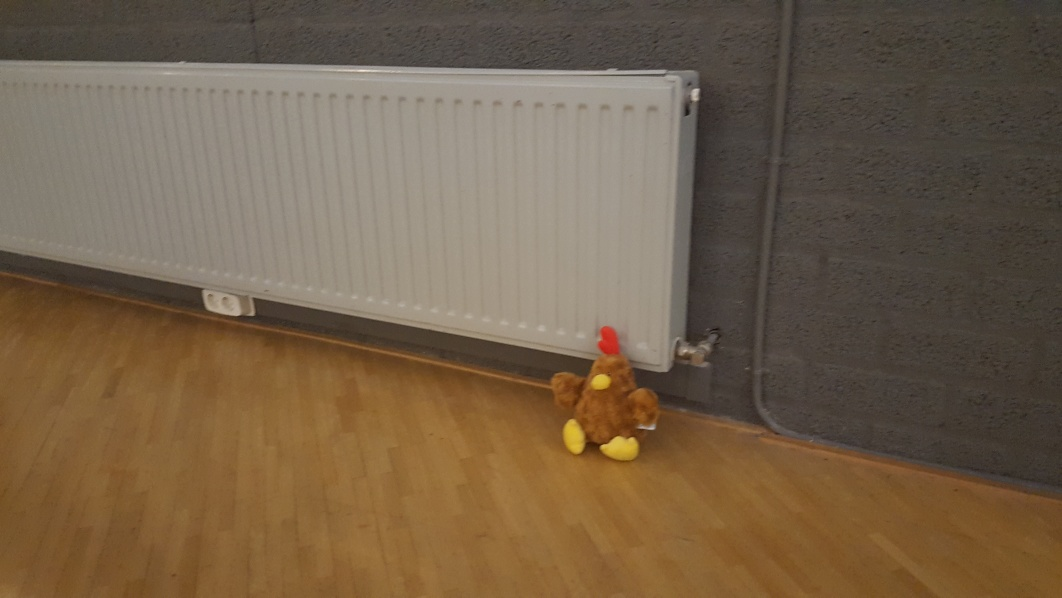chicken: (552, 324, 653, 469)
